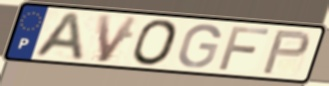A: (30, 11, 86, 63)
F: (216, 25, 272, 72)
G: (176, 23, 223, 70)
O: (131, 18, 181, 68)
P: (259, 29, 312, 76)
V: (96, 13, 142, 64)
